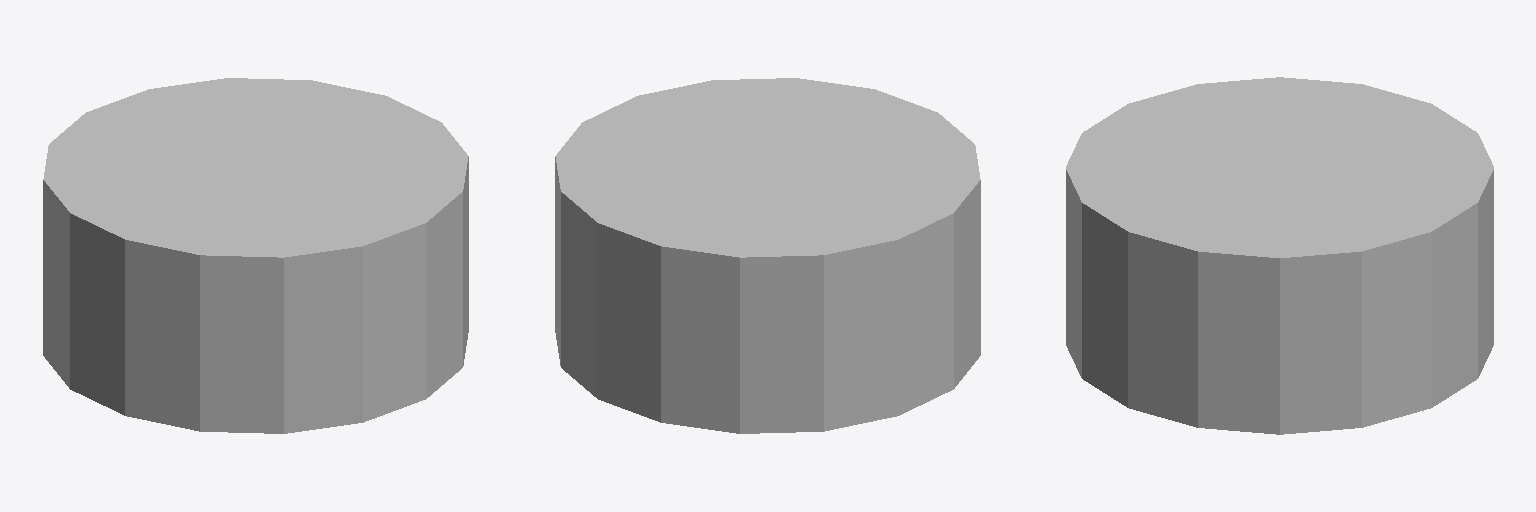
File: rim.obj
3 views of the same model, side by side, from view 1: azimuth 30°, elevation 25°; view 2: azimuth 150°, elevation 25°; view 3: azimuth 270°, elevation 25° (orthographic).
Visible parts, largest first — view 1: Cylinder03; view 2: Cylinder03; view 3: Cylinder03.
Part boxes in pixels (x1,y1,x2,y2): Cylinder03: (43, 78, 468, 433); Cylinder03: (555, 78, 980, 433); Cylinder03: (1066, 77, 1493, 434).
Size of the model in its own units: 17.15 by 7.78 by 17.15.